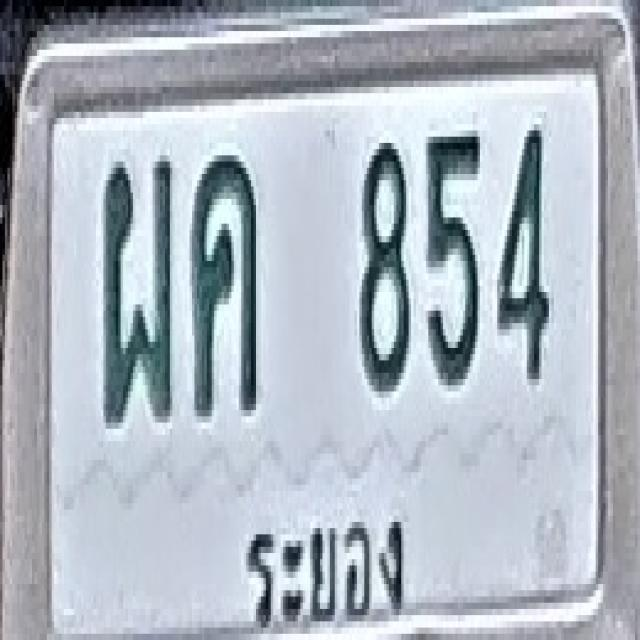4: (497, 121, 549, 382)
5: (426, 128, 480, 388)
8: (359, 136, 408, 392)
A04: (191, 149, 257, 416)
A28: (102, 156, 174, 422)
RYG: (238, 497, 412, 640)
